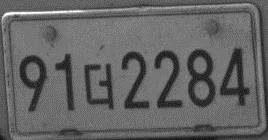1: (50, 51, 82, 111)
2: (117, 50, 151, 111), (152, 49, 184, 109)
4: (217, 45, 250, 108)
8: (184, 48, 217, 107)
9: (18, 53, 48, 113)
더: (82, 61, 116, 111)
